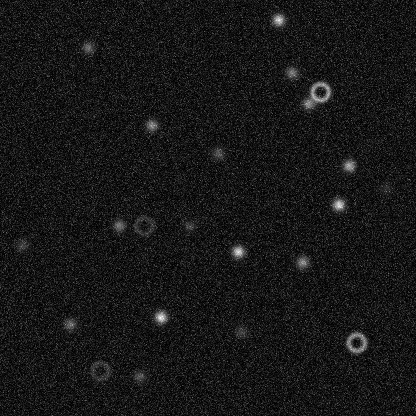Ring: (88, 358, 112, 382), (344, 330, 368, 354), (308, 79, 332, 103), (131, 213, 155, 237)
Spot: (152, 308, 168, 324), (62, 316, 78, 332), (210, 145, 226, 161), (181, 217, 197, 233), (111, 217, 127, 233), (233, 323, 249, 339), (79, 39, 95, 55), (14, 237, 30, 253), (294, 254, 310, 270), (283, 64, 299, 80), (377, 180, 393, 196), (131, 368, 147, 384), (340, 157, 356, 173), (270, 11, 286, 27), (300, 95, 316, 111), (330, 196, 346, 212), (230, 243, 246, 259), (143, 117, 159, 133)
